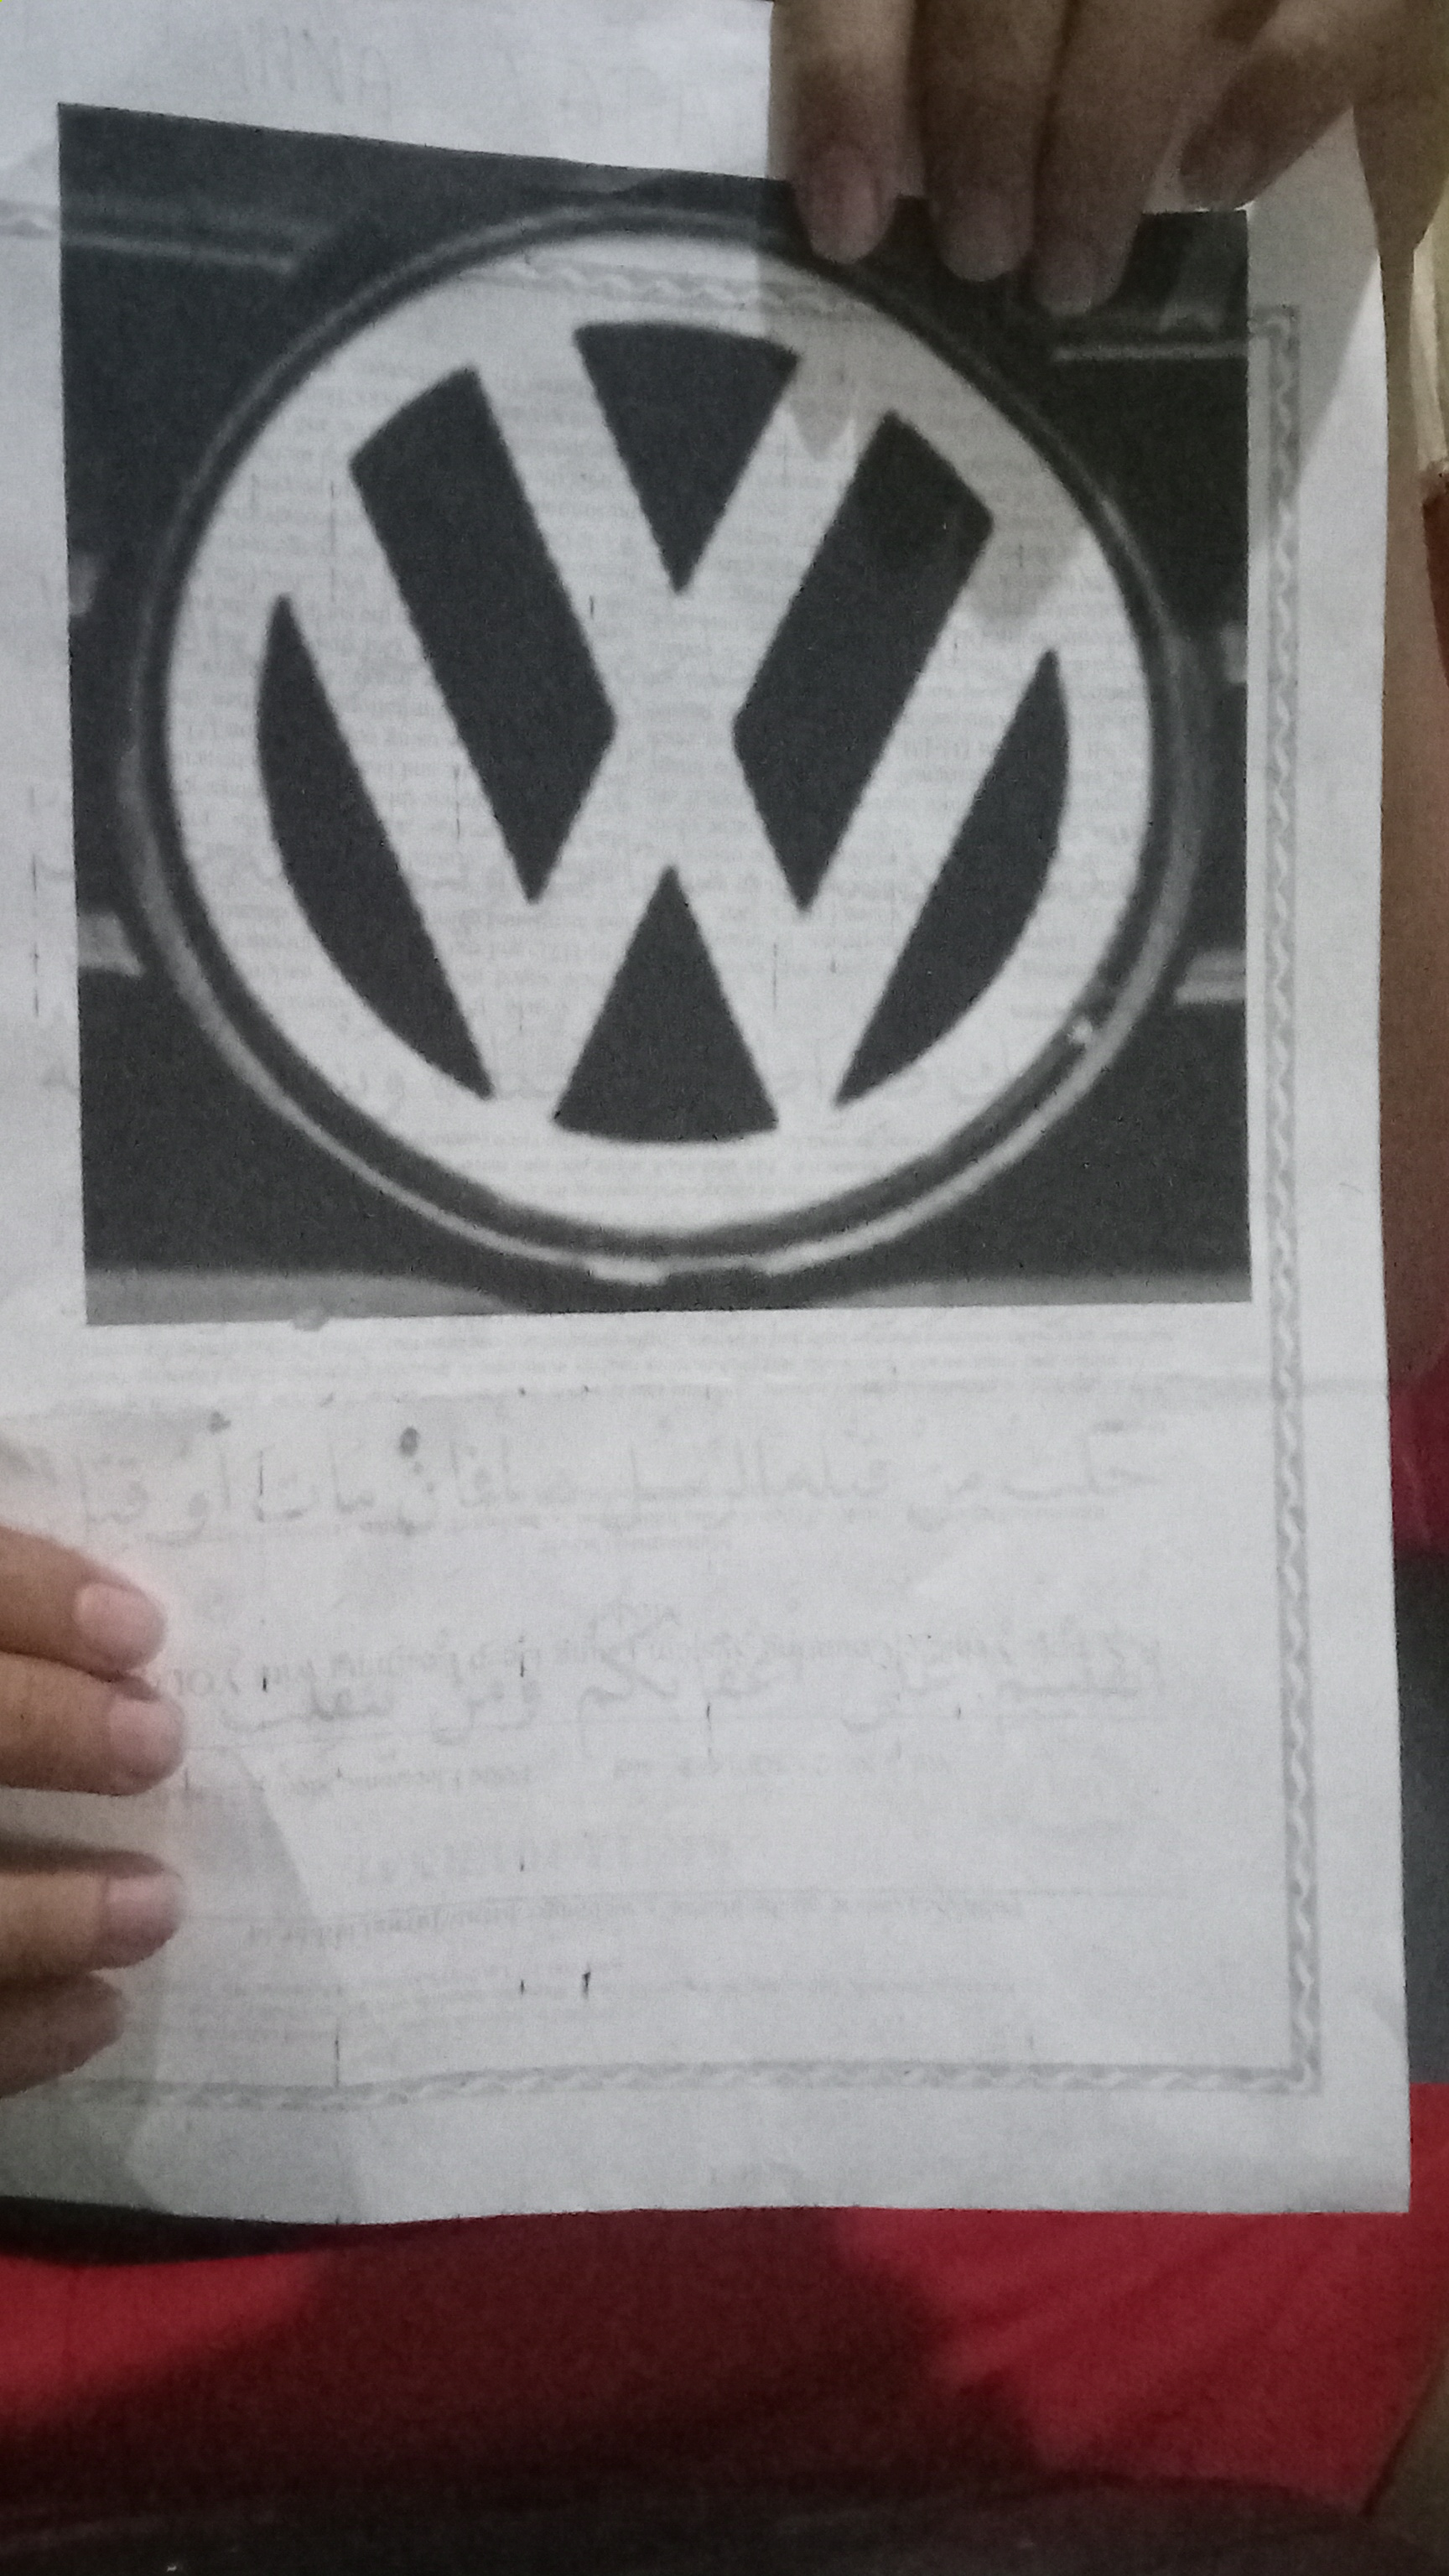Volkswagen: (83, 152, 1215, 1299)
